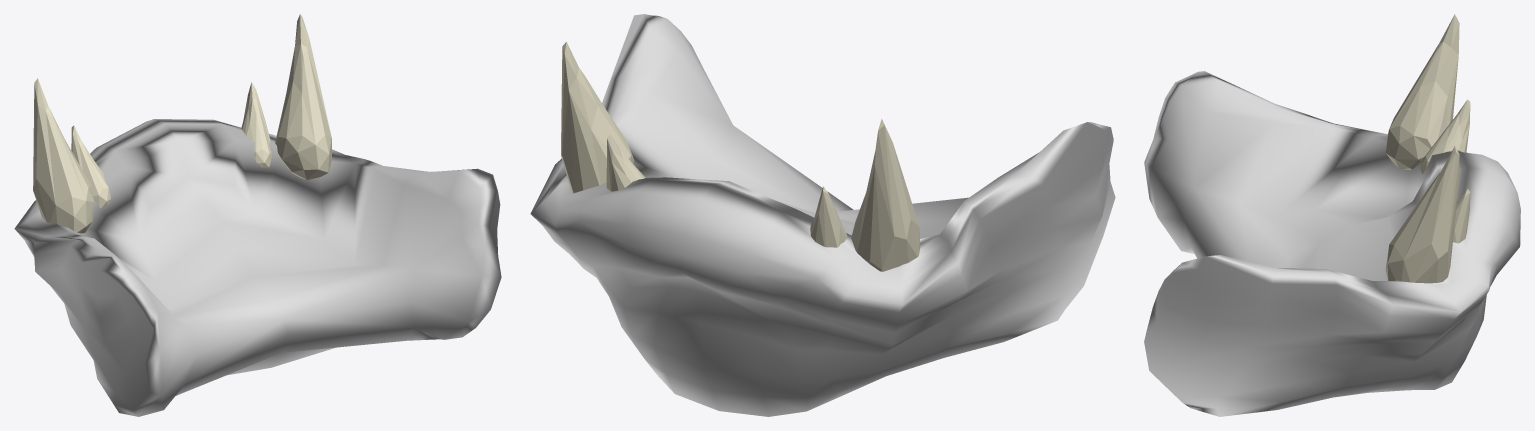
Rendered from Orcjaw2.fbx.
The picture shows the model from 3 angles, left to right: view 1: azimuth 30°, elevation 25°; view 2: azimuth 150°, elevation 25°; view 3: azimuth 270°, elevation 25°; orthographic projection. The views are drawn at different scales.
Parts seen in each view (by area): view 1: Jaw, teeth2Large, teeth3; view 2: Jaw, teeth2Large, teeth3; view 3: Jaw, teeth2Large, teeth3.
Part boxes in pixels (x1=…): Jaw: x1=14, y1=119, x2=501, y2=416; teeth2Large: x1=33, y1=14, x2=331, y2=233; teeth3: x1=71, y1=82, x2=271, y2=208; Jaw: x1=530, y1=14, x2=1115, y2=416; teeth2Large: x1=561, y1=42, x2=919, y2=271; teeth3: x1=606, y1=134, x2=847, y2=247; Jaw: x1=1144, y1=71, x2=1520, y2=416; teeth2Large: x1=1385, y1=14, x2=1459, y2=283; teeth3: x1=1420, y1=99, x2=1470, y2=243.
Size of the model in its own units: 0.1627 by 0.1105 by 0.1306.
